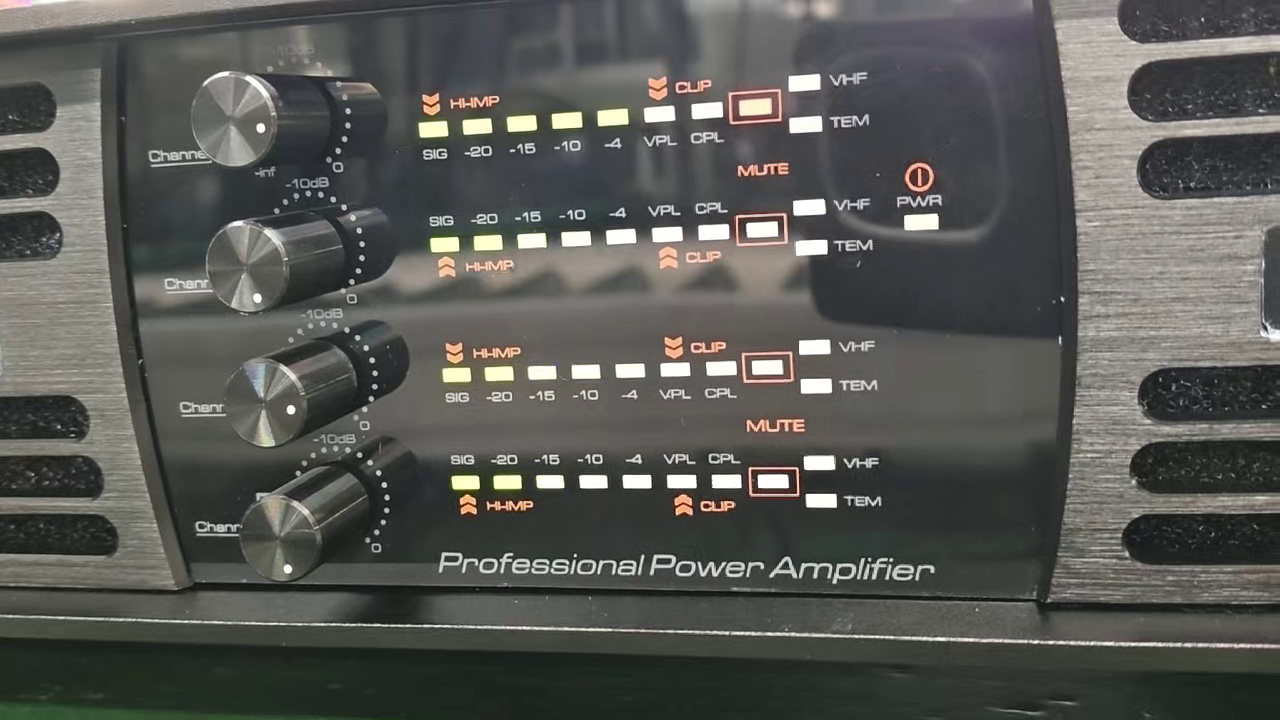FP_CPL: (686, 97, 726, 152), (692, 198, 733, 248), (700, 357, 742, 405), (707, 446, 748, 492)
FP_PWR: (893, 190, 946, 234)
FP_PWR_area: (890, 155, 946, 242)
FP_SIG_area: (414, 65, 874, 164), (427, 193, 880, 280), (437, 443, 891, 525), (437, 334, 891, 405)
FP_VPL: (640, 102, 680, 156), (646, 198, 688, 246), (662, 446, 702, 493), (655, 358, 695, 404)
